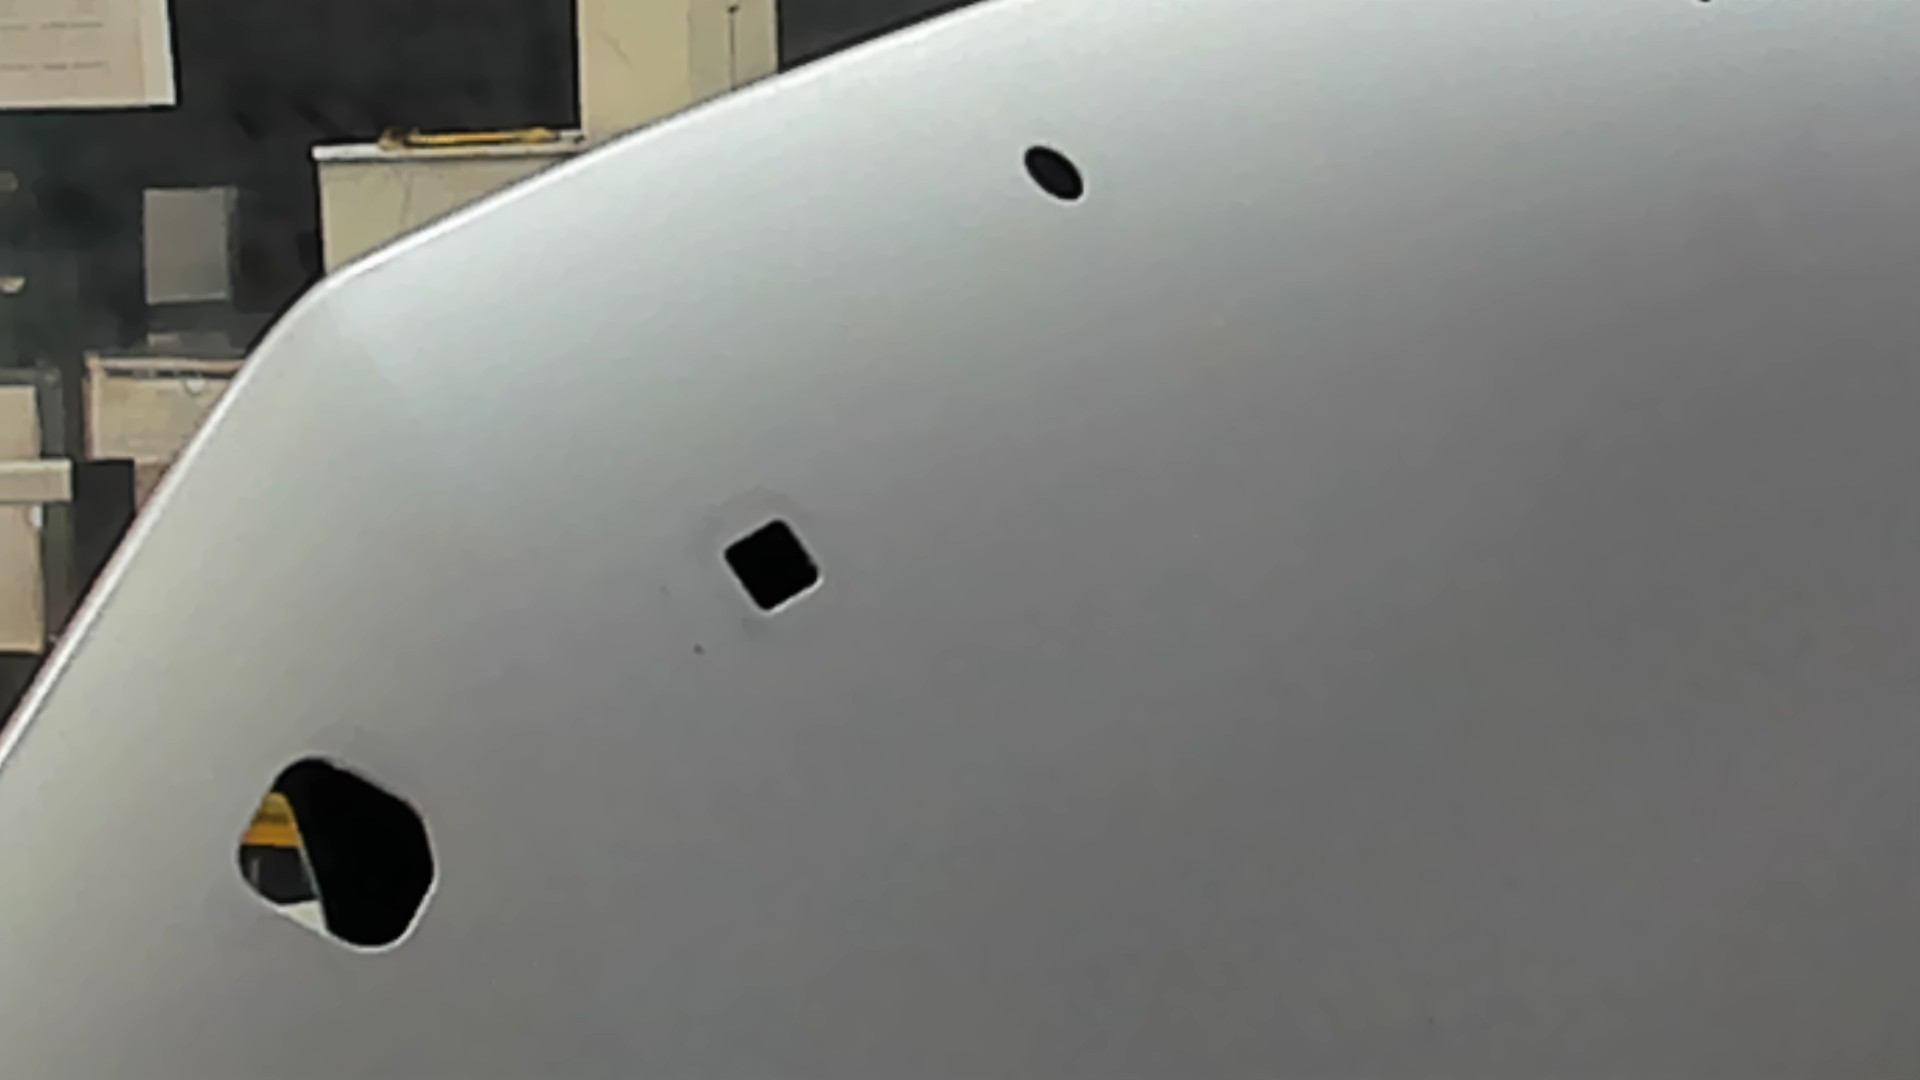Agujero: (723, 517, 822, 615), (1022, 144, 1087, 202)
Agujerote: (233, 756, 439, 952)
